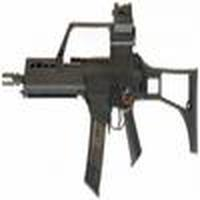gun: (3, 4, 200, 168)
